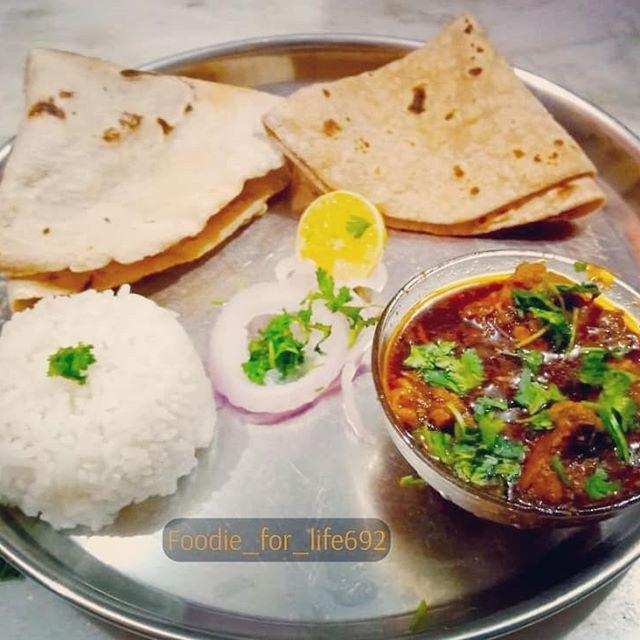Roti: (296, 15, 608, 216), (2, 30, 298, 241)
White Rice: (1, 287, 229, 538)
